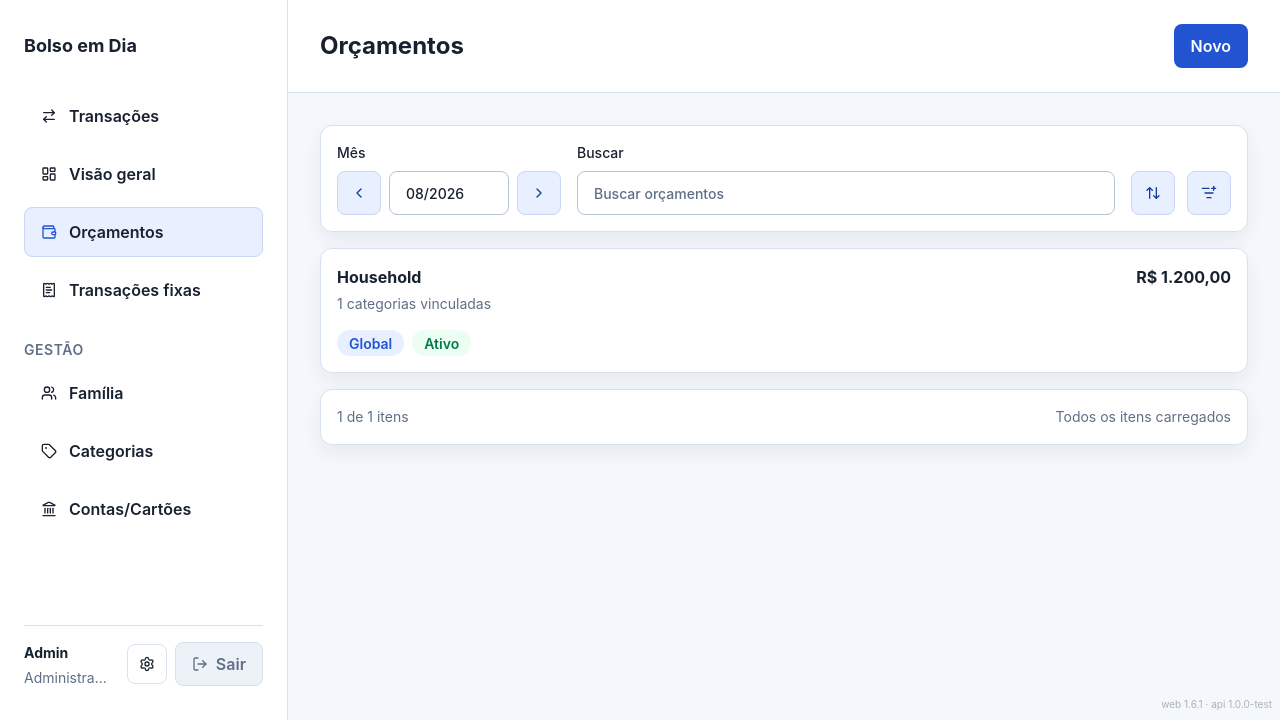
BudgetsPage › loads budgets and validates budget-specific fields
Expected: the text "Household" is shown, 337,267 -> 421,287
Click the button "Novo" at (1211, 46), box 1174,24 -> 1248,68
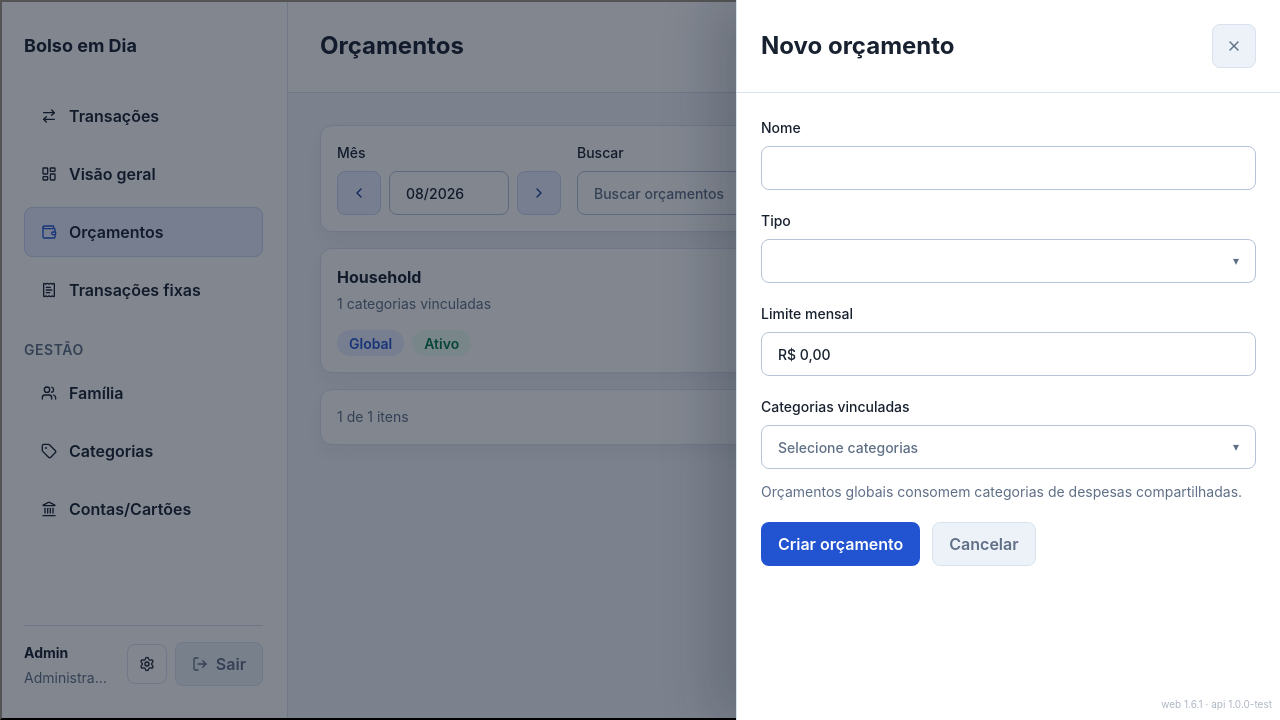
Type "Allowance budget" into the field labelled "Nome" at (1008, 168), box 761,146 -> 1256,190
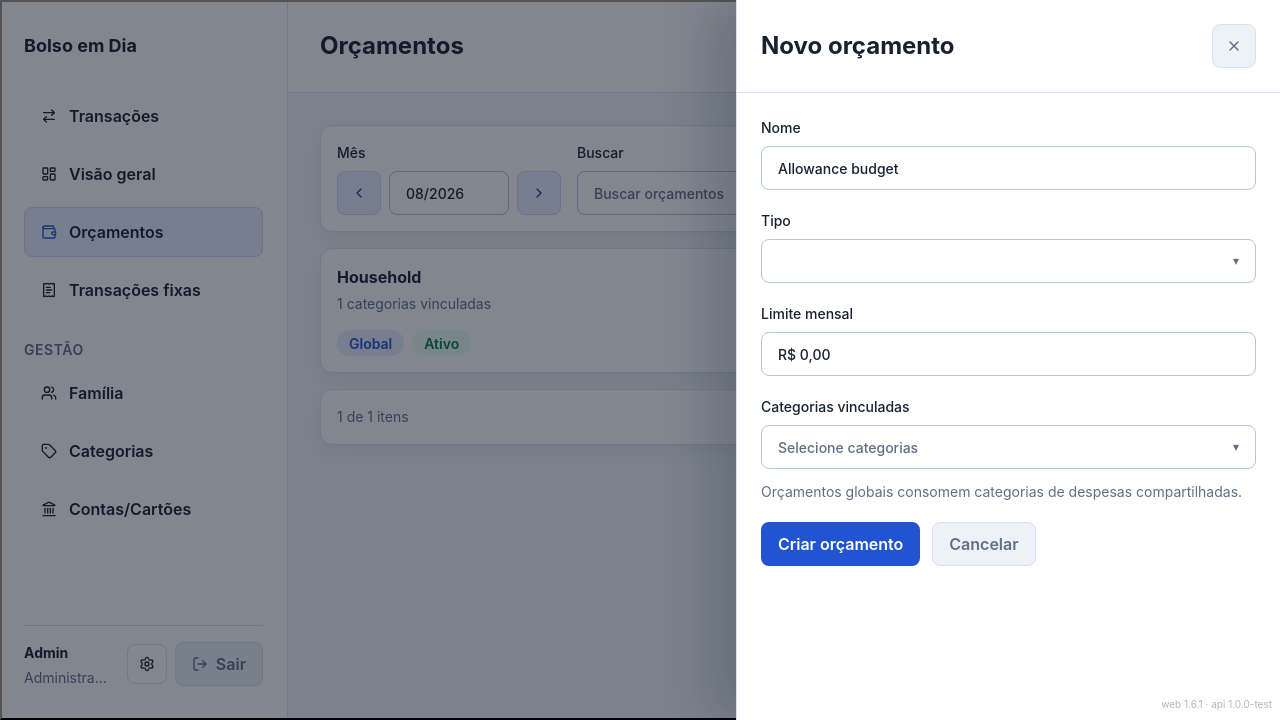
Replace the text in the field labelled "Limite mensal" with "450" at (1008, 354), box 761,332 -> 1256,376
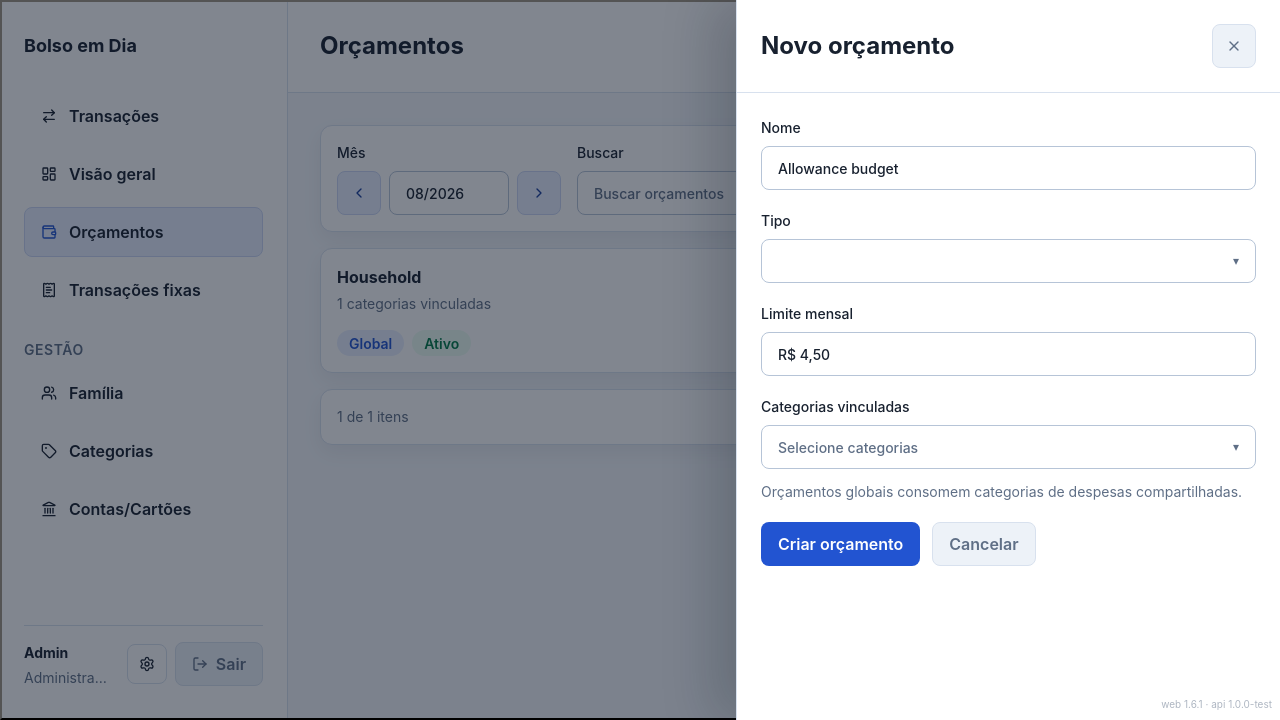
Select "Mesada" in the dropdown labelled "Tipo" at (1008, 246), box 761,210 -> 1256,283
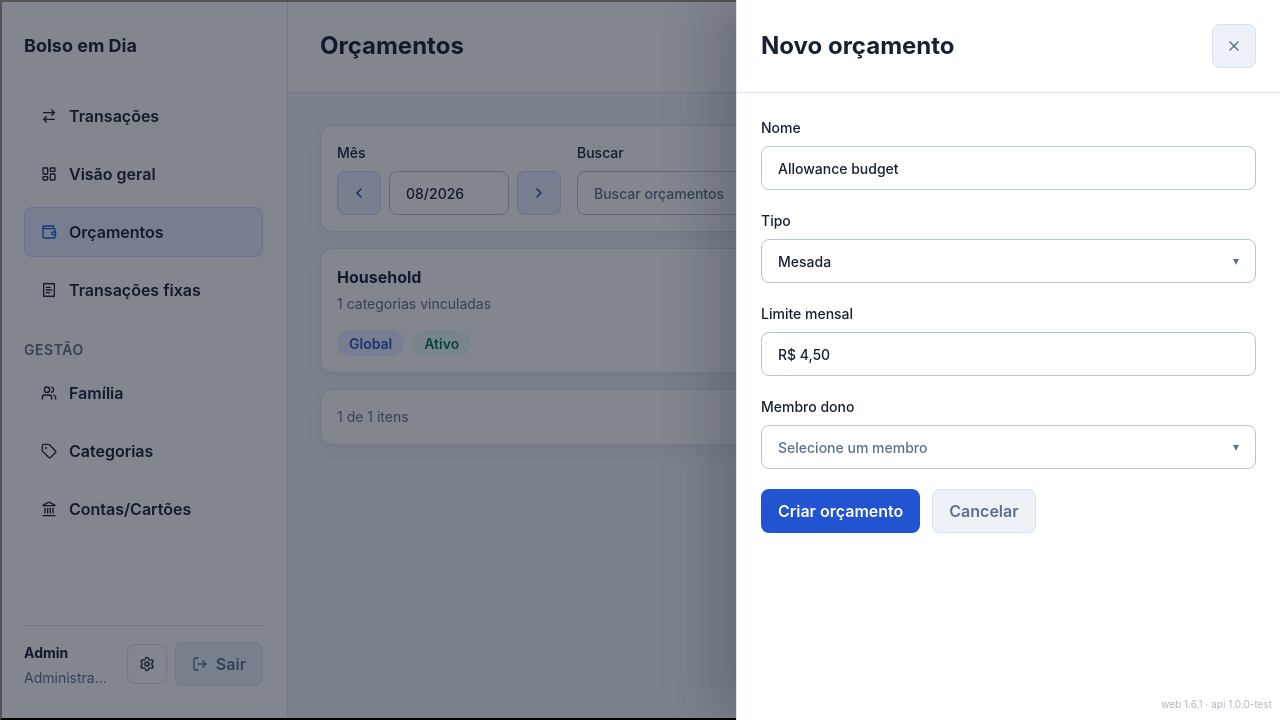
Click the button "Criar orçamento" at (841, 511), box 761,489 -> 920,533
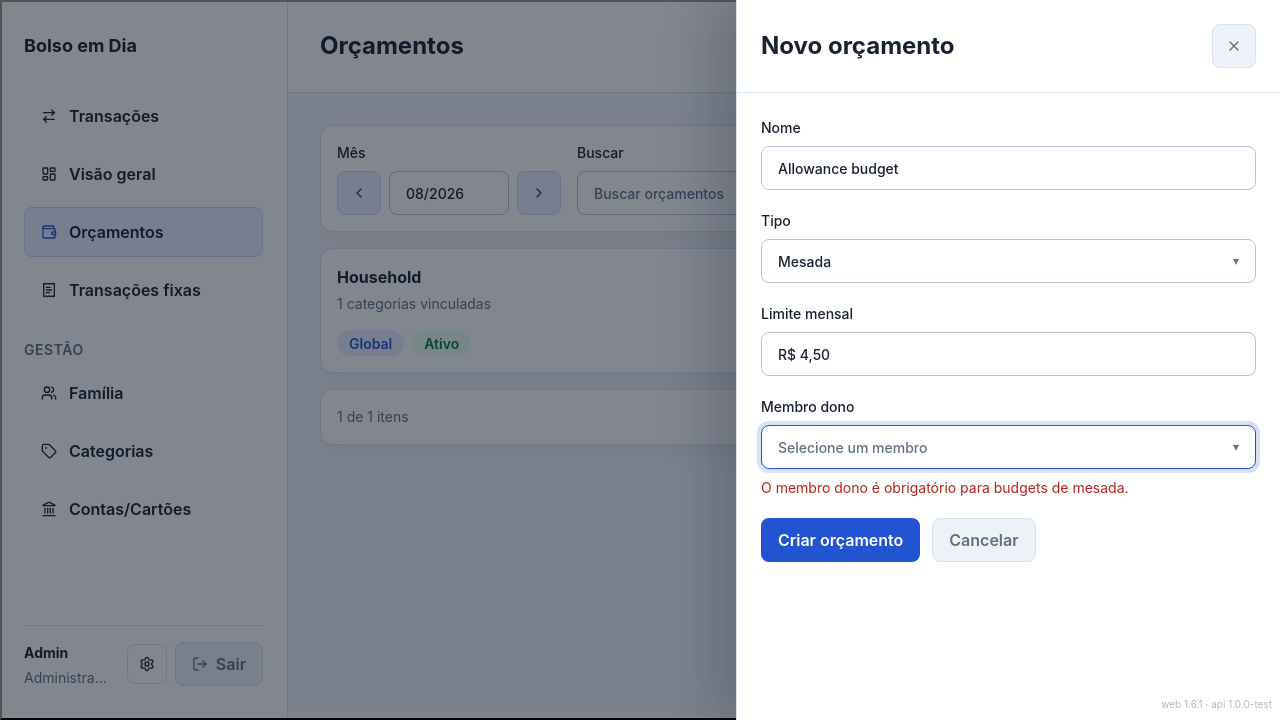
Expected: the text "O membro dono é obrigatório para budgets de mesada." is shown, 761,479 -> 1128,496
